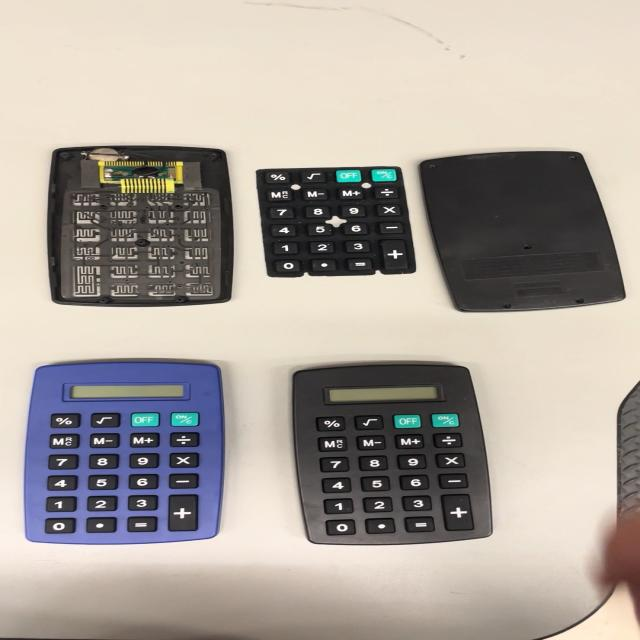back_cover: (416, 148, 628, 315)
calculator: (289, 362, 496, 548), (19, 360, 224, 547)
front_panel: (42, 144, 238, 308)
number_pad: (252, 164, 416, 278)
